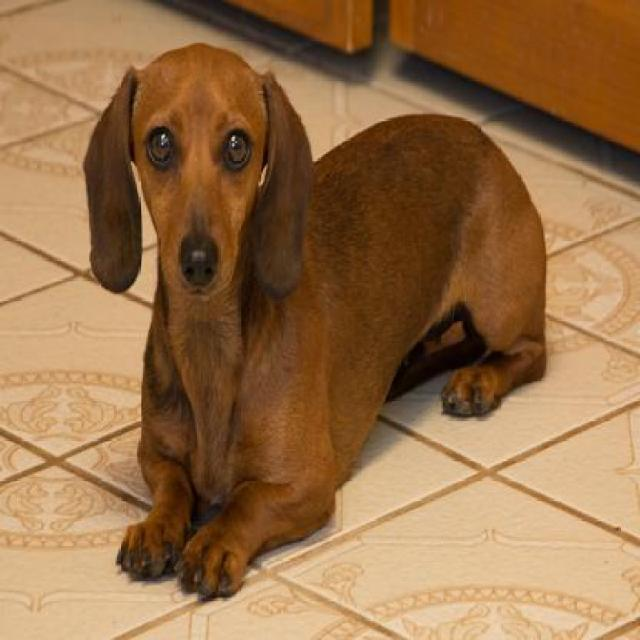Dog: (83, 37, 551, 605)
